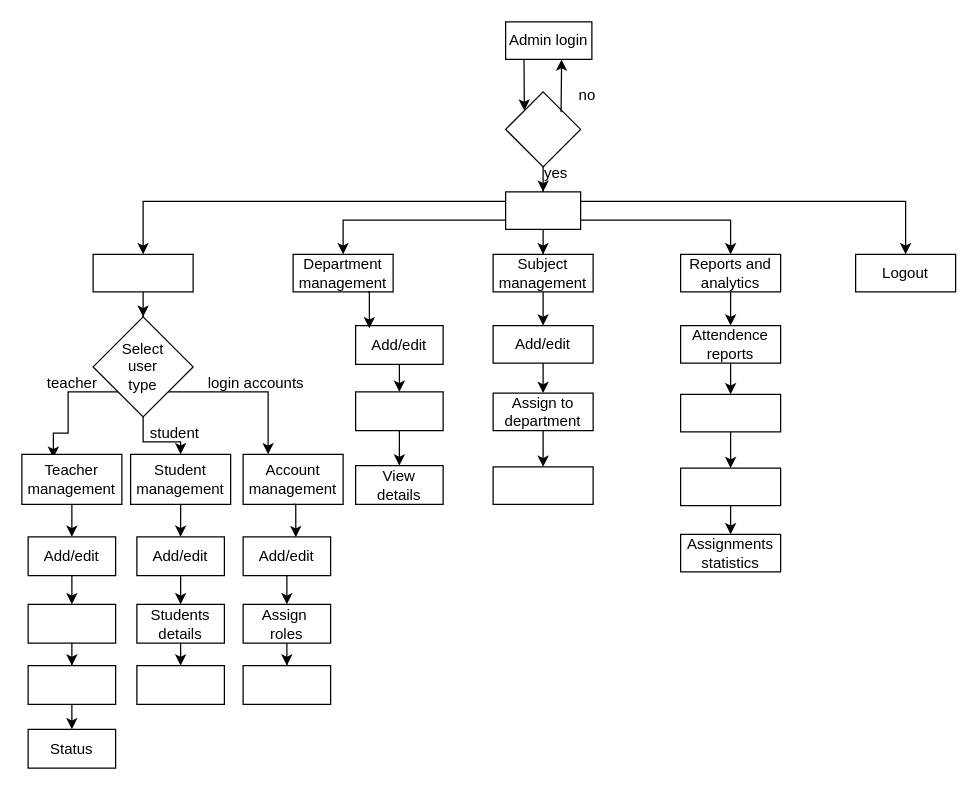
Image size: 978x790. Some labels were removed from this diagram. Here are the shapes that lost their labels. From the top down, the box of each, then its label:
(504, 91, 581, 167): Sucess?
(504, 191, 581, 229): Admin dashboard
(92, 253, 193, 292): User management
(354, 391, 443, 431): Assign teacher
(679, 393, 781, 432): Academic reports
(492, 466, 593, 504): Assign to semester
(679, 467, 781, 506): system usage reports
(27, 603, 116, 643): Assign
(27, 664, 116, 704): Details
(136, 664, 224, 704): Academic history
(242, 664, 331, 704): Change status
